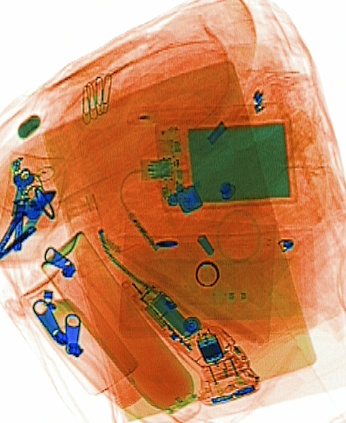pressure: (39, 229, 203, 421)
